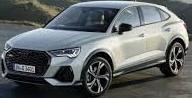Crossovers: (3, 3, 190, 97)
